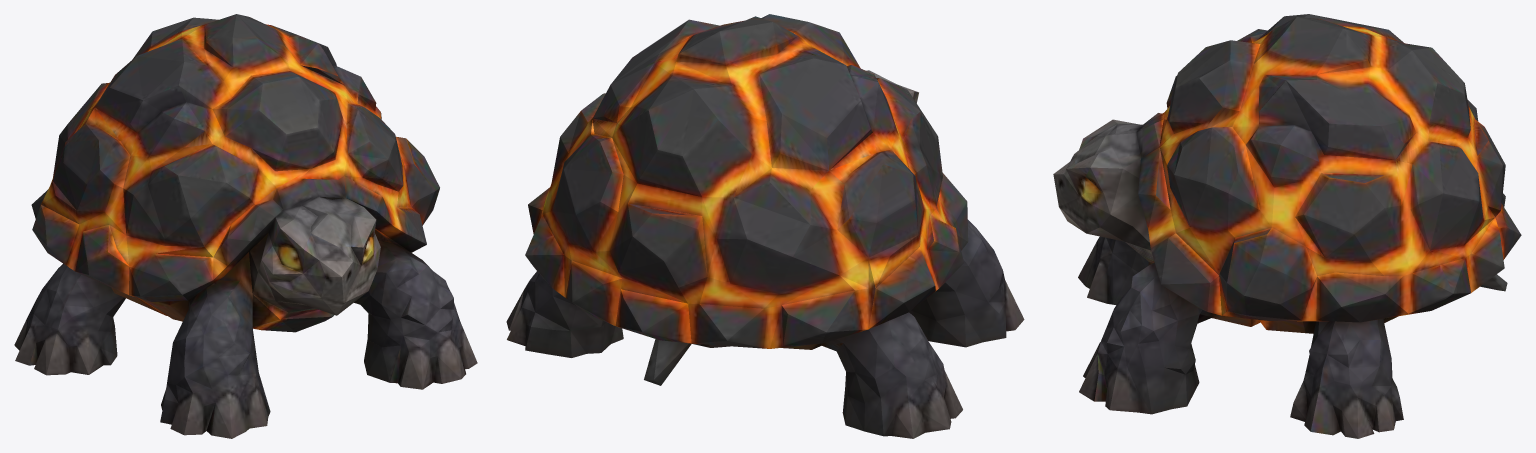
The model's file is m_tortue_basalte.glb.
The picture shows the model from 3 angles, left to right: view 1: azimuth 30°, elevation 25°; view 2: azimuth 150°, elevation 25°; view 3: azimuth 270°, elevation 25°; orthographic projection. The views are drawn at different scales.
Visible parts, largest first — view 1: monstre; view 2: monstre; view 3: monstre.
Part boxes in pixels (x1,y1,x2,y2): monstre: [14, 14, 477, 438]; monstre: [506, 14, 1024, 438]; monstre: [1053, 14, 1521, 438].
Bounding box in the file's own units: 1 × 0.7229 × 0.9684.
1 material, 1 textured.
